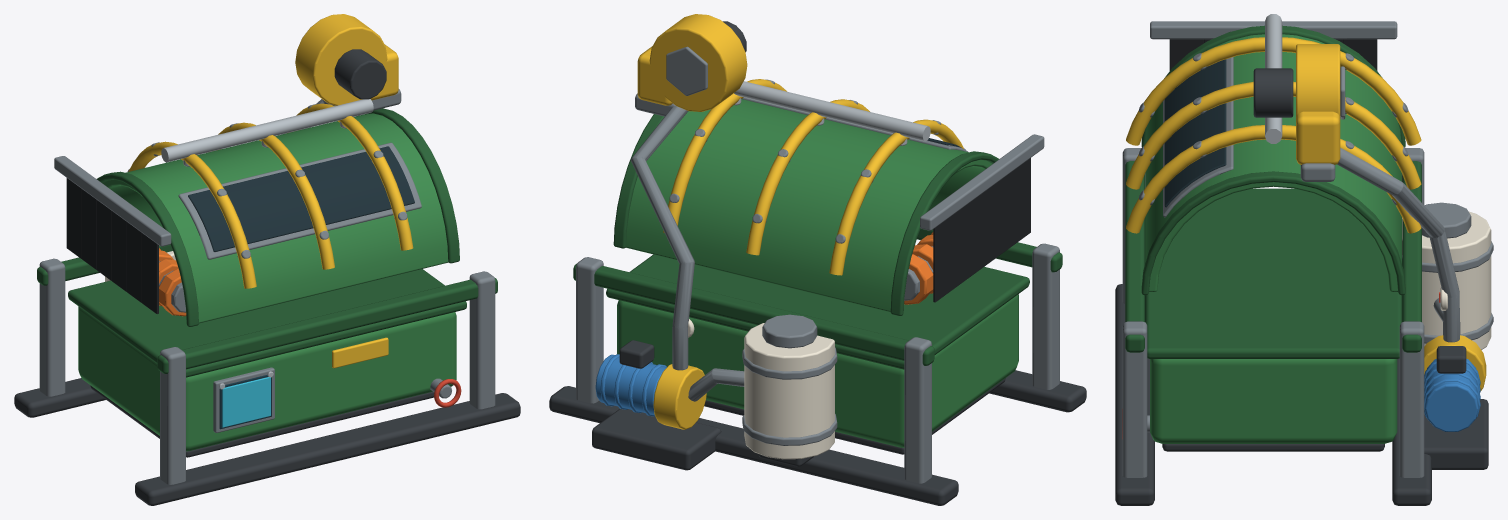
Rendered from hoop_washer.glb.
3 renders of one model, left to right at view 1: azimuth 30°, elevation 25°; view 2: azimuth 150°, elevation 25°; view 3: azimuth 270°, elevation 25°, orthographic. The views are drawn at different scales.
Parts seen in each view (by area): view 1: vault, sump, block.009, vault.004, block.005, block.006, cyl.031, block.002, block.003, block.001, pipe, vault.003 (+21 smaller); view 2: vault, sump, block.009, cyl.020, block.007, block.008, cyl.031, block.014, pipe.003, block.002, block.001, block.004 (+27 smaller); view 3: block.009, sump, vault, cyl.020, vault.004, ring.001, ring.002, pipe.003, vault.002, block.003, block.004, ring.003 (+22 smaller).
Boxes of the visible parts, bbox=[...] form: vault: bbox=[103, 113, 448, 323]; sump: bbox=[78, 306, 456, 451]; block.009: bbox=[68, 269, 466, 377]; vault.004: bbox=[188, 146, 414, 251]; block.005: bbox=[135, 393, 520, 505]; block.006: bbox=[157, 277, 497, 373]; cyl.031: bbox=[295, 14, 387, 105]; block.002: bbox=[39, 258, 65, 396]; block.003: bbox=[469, 271, 495, 409]; block.001: bbox=[160, 347, 185, 484]; pipe: bbox=[161, 99, 373, 162]; vault.003: bbox=[178, 142, 421, 259]; vault: bbox=[626, 99, 992, 312]; sump: bbox=[617, 294, 1018, 447]; block.009: bbox=[606, 254, 1029, 369]; cyl.020: bbox=[744, 323, 834, 459]; block.007: bbox=[549, 386, 958, 505]; block.008: bbox=[573, 263, 934, 365]; cyl.031: bbox=[649, 14, 747, 111]; block.014: bbox=[592, 409, 721, 470]; pipe.003: bbox=[630, 105, 694, 370]; block.002: bbox=[904, 337, 931, 483]; block.001: bbox=[1032, 243, 1059, 389]; block.004: bbox=[576, 257, 603, 403]; block.009: bbox=[1145, 188, 1402, 358]; sump: bbox=[1150, 359, 1397, 443]; vault: bbox=[1145, 34, 1401, 291]; cyl.020: bbox=[1402, 211, 1491, 349]; vault.004: bbox=[1164, 59, 1226, 207]; ring.001: bbox=[1126, 37, 1421, 145]; ring.002: bbox=[1126, 81, 1421, 189]; pipe.003: bbox=[1337, 147, 1459, 342]; vault.002: bbox=[1141, 171, 1405, 295]; block.003: bbox=[1122, 321, 1147, 477]; block.004: bbox=[1399, 321, 1424, 477]; ring.003: bbox=[1126, 125, 1421, 233].
Size of the model in its own units: 2 by 1.82 by 1.53.
